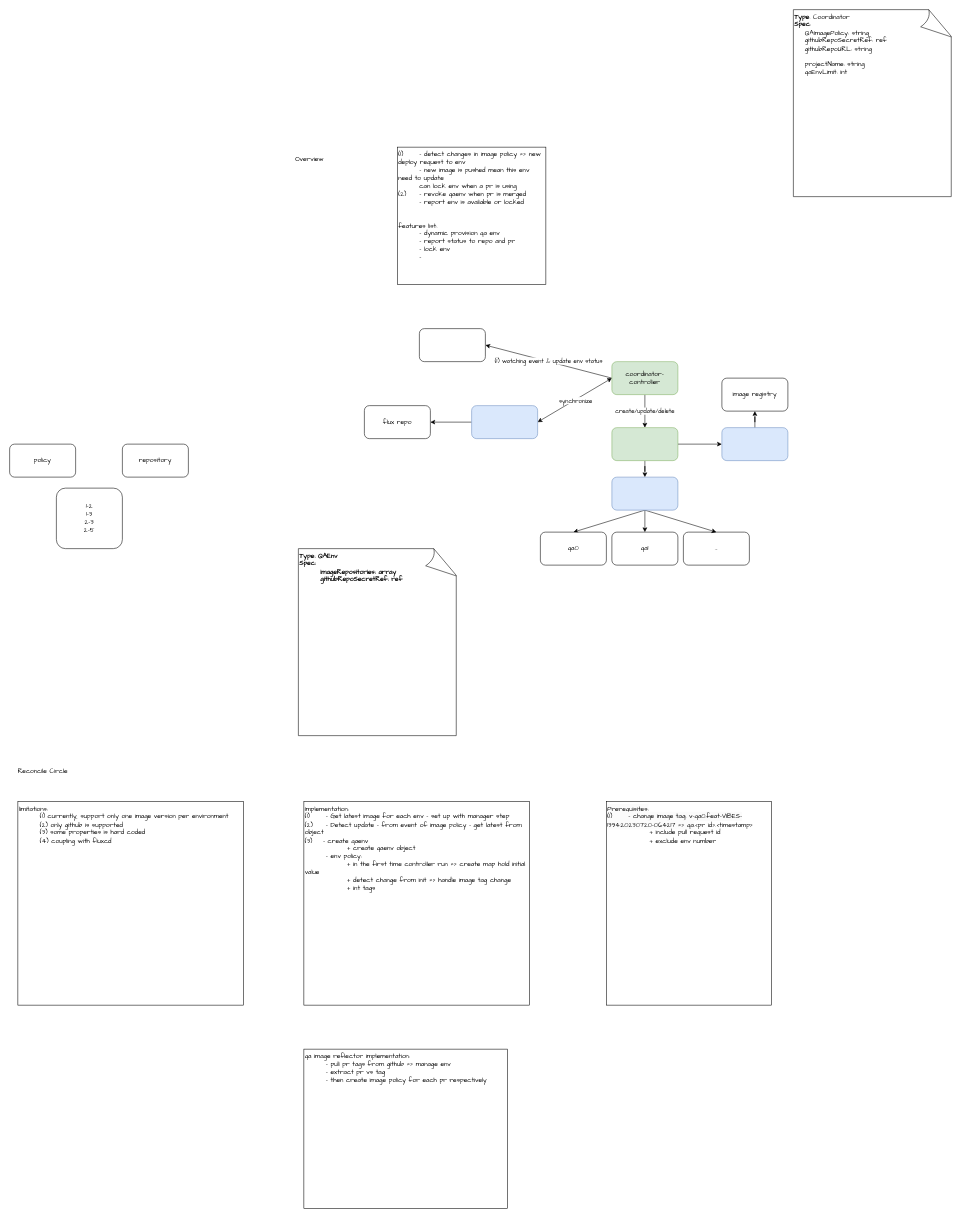
Image size: 963x1218. Some labels were removed from this diagram. The centre of each missing label's shape, as x and y in pixels:
"application repo" belongs at point 452,345.
"git- repository" belongs at point 504,422.
"image-reflector" belongs at point 754,444.
"kustomization" belongs at point 644,493.
"qaenv-controller" belongs at point 644,444.
